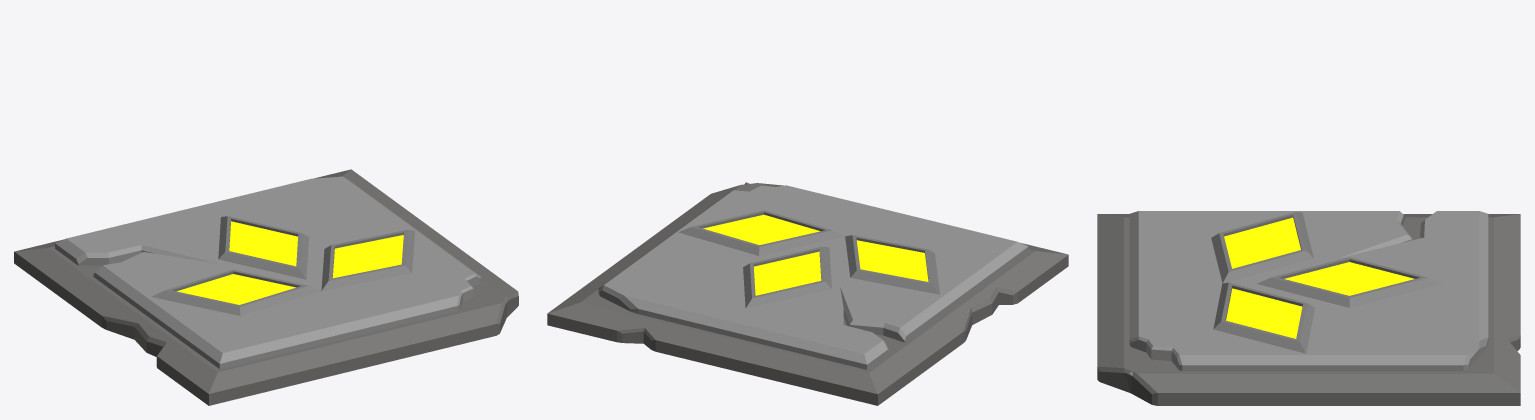
Rendered from plate_2.fbx.
3 views of the same model, side by side, from view 1: azimuth 30°, elevation 25°; view 2: azimuth 150°, elevation 25°; view 3: azimuth 270°, elevation 25° (orthographic). The views are drawn at different scales.
Visible parts, largest first — view 1: plate_2, plate_base_2, Куб.096; view 2: plate_2, plate_base_2, Куб.096; view 3: plate_2, plate_base_2, Куб.096.
Part boxes in pixels (x1,y1,x2,y2): plate_2: (55, 176, 480, 369); plate_base_2: (14, 169, 518, 405); Куб.096: (151, 216, 414, 315); plate_2: (598, 185, 1028, 369); plate_base_2: (547, 182, 1068, 405); Куб.096: (678, 210, 939, 308); plate_2: (1129, 211, 1488, 370); plate_base_2: (1097, 214, 1520, 405); Куб.096: (1211, 212, 1441, 353).
Bounding box in the file's own units: 1.3 × 1.03 × 1.3.
